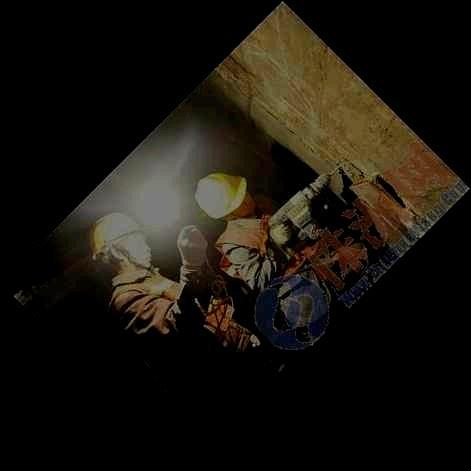helmet: (90, 213, 153, 269), (194, 171, 256, 219)
